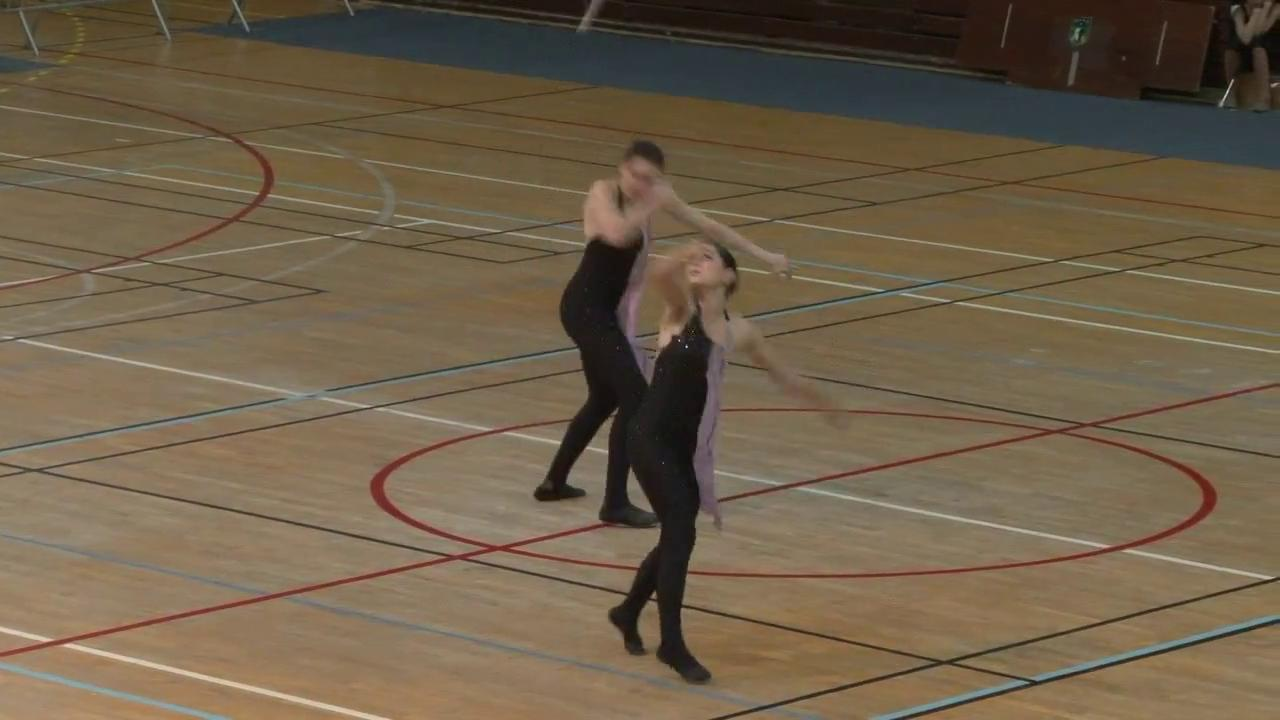victim: (604, 233, 858, 692), (530, 136, 798, 536)
